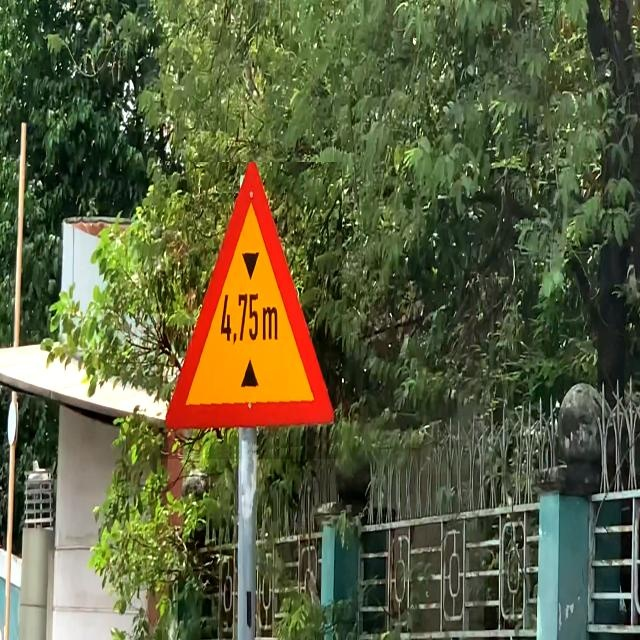bien_nguy_hiem: (160, 162, 342, 459)
